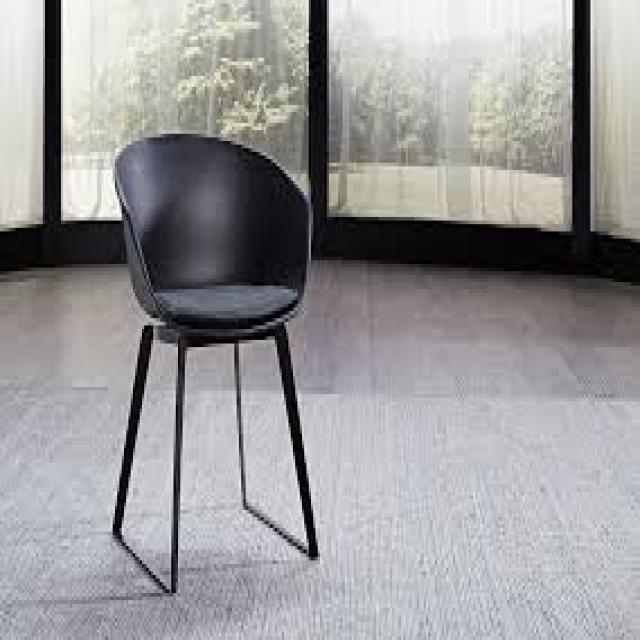chair: (72, 110, 384, 601)
